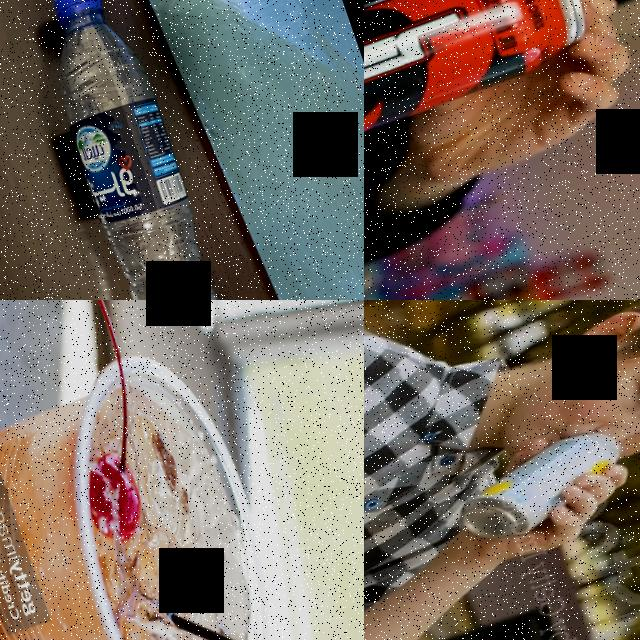bottle: (2, 0, 270, 300)
can: (364, 0, 598, 212), (447, 420, 637, 548)
cup: (0, 332, 320, 640)
